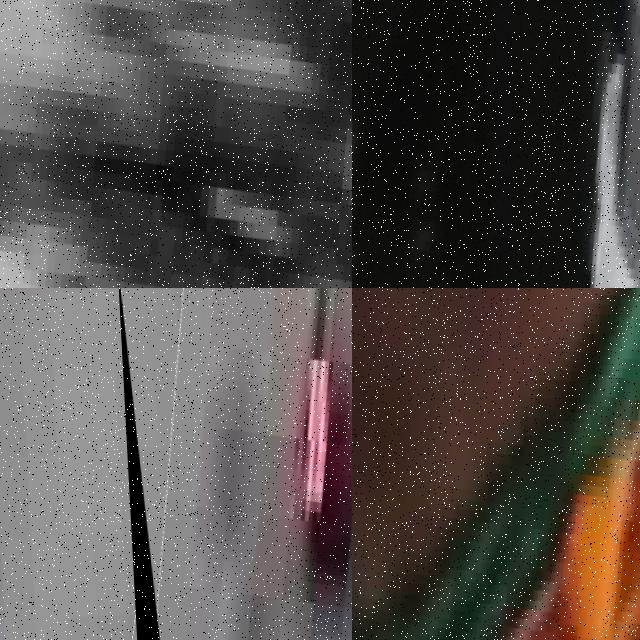drone: (0, 0, 352, 288), (352, 288, 640, 640), (352, 0, 640, 288), (117, 288, 352, 640)
